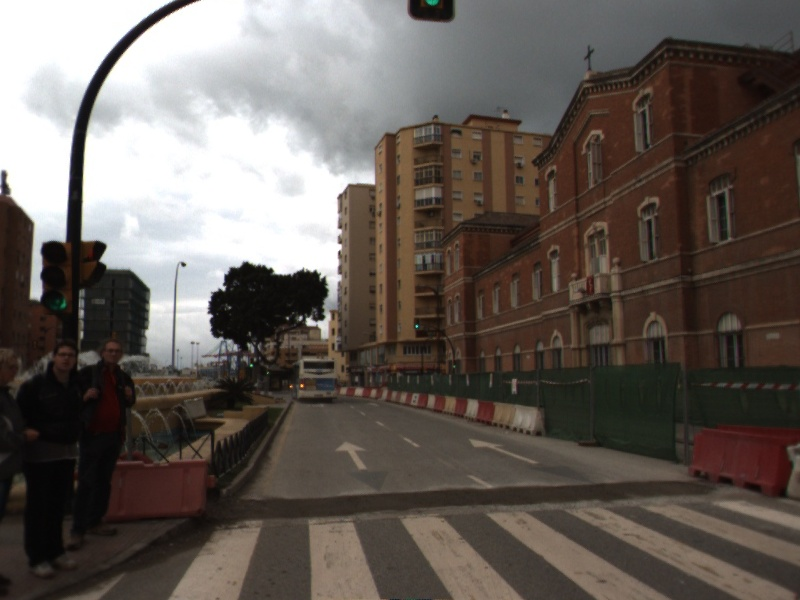STRAIGHT: (467, 437, 542, 466), (332, 438, 371, 471)
